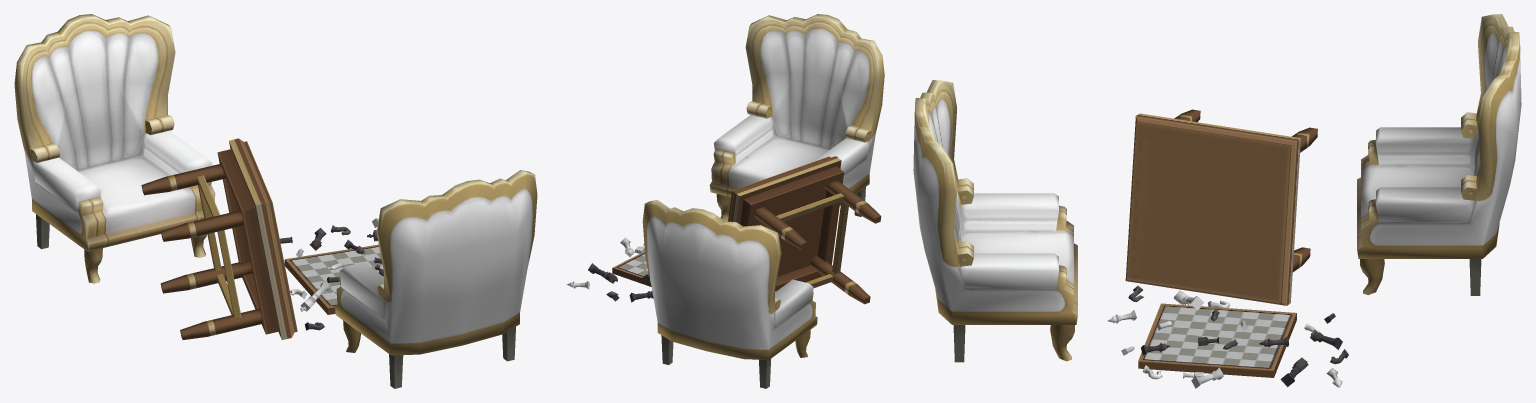
The model's file is my_teaparty_01_table_03.glb.
3 renders of one model, left to right at view 1: azimuth 30°, elevation 25°; view 2: azimuth 150°, elevation 25°; view 3: azimuth 270°, elevation 25°, orthographic. The views are drawn at different scales.
Visible parts, largest first — view 1: my_teaparty_01_table_03; view 2: my_teaparty_01_table_03; view 3: my_teaparty_01_table_03.
Boxes of the visible parts, x1=… form: my_teaparty_01_table_03: x1=14, y1=14, x2=537, y2=388; my_teaparty_01_table_03: x1=566, y1=14, x2=884, y2=388; my_teaparty_01_table_03: x1=913, y1=14, x2=1521, y2=388.
Bounding box in the file's own units: 0.0118 × 0.00733 × 0.0178.
1 material, 1 textured.
